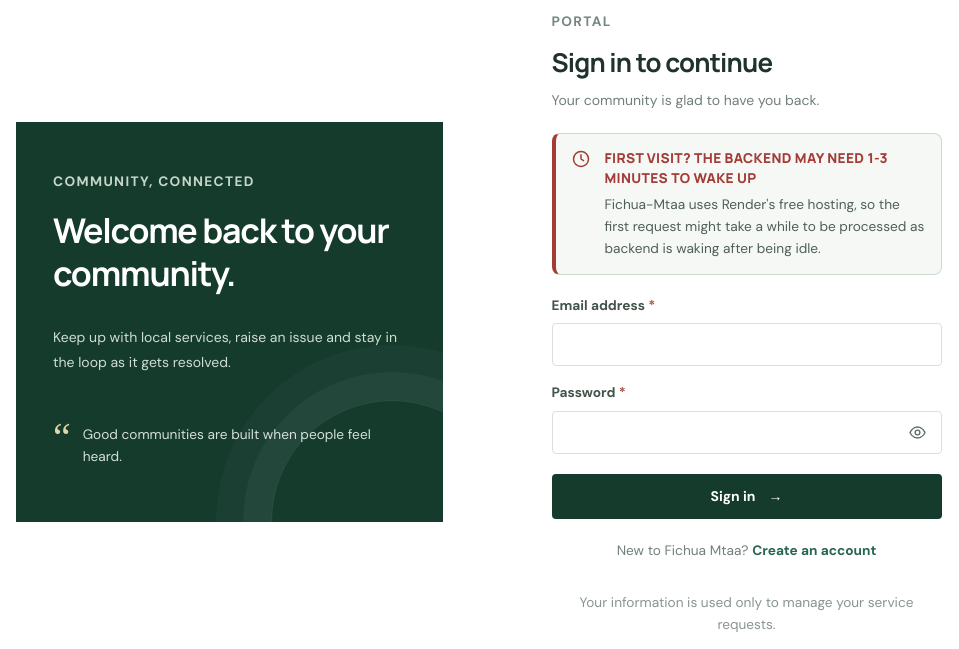
Test case: authentication forms › toggles a login password without changing its value
Type "private-value" into the password field labelled "Password *" at coordinates (746, 432), box [552,411,942,454]
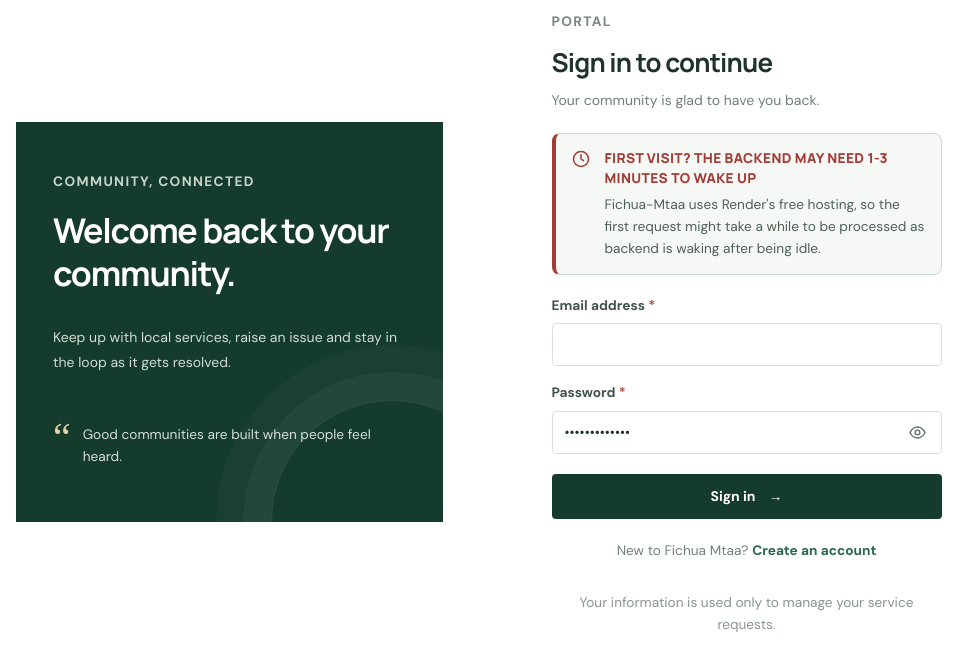
Click the button named "Show password" at coordinates (918, 432), box [900,416,934,450]
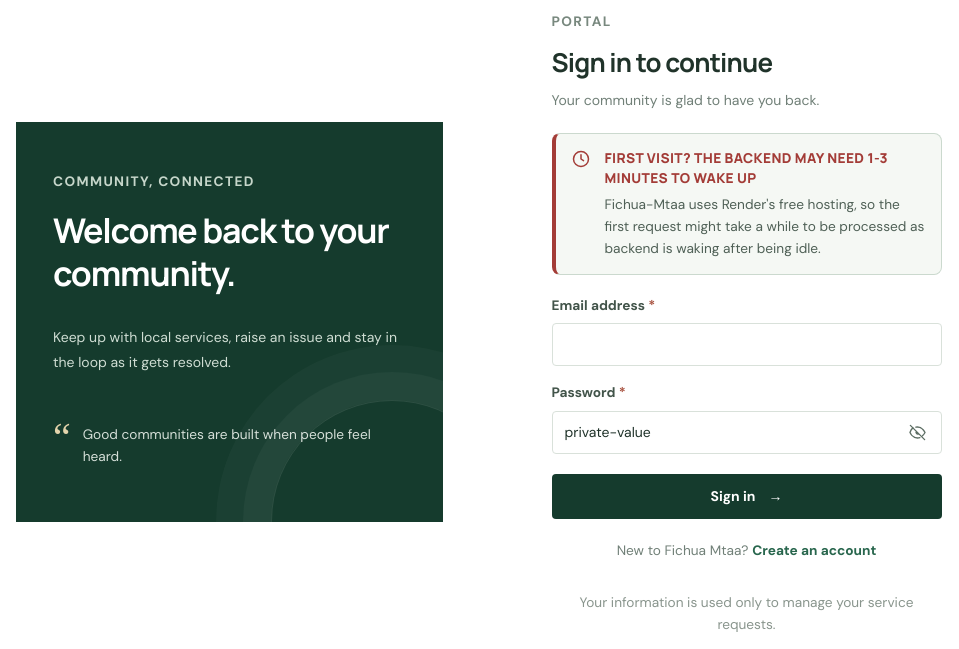
Expected: the field labelled "Password *" shows its text, [552,411,942,454]
Click the button named "Hide password" at coordinates (918, 432), box [900,416,934,450]
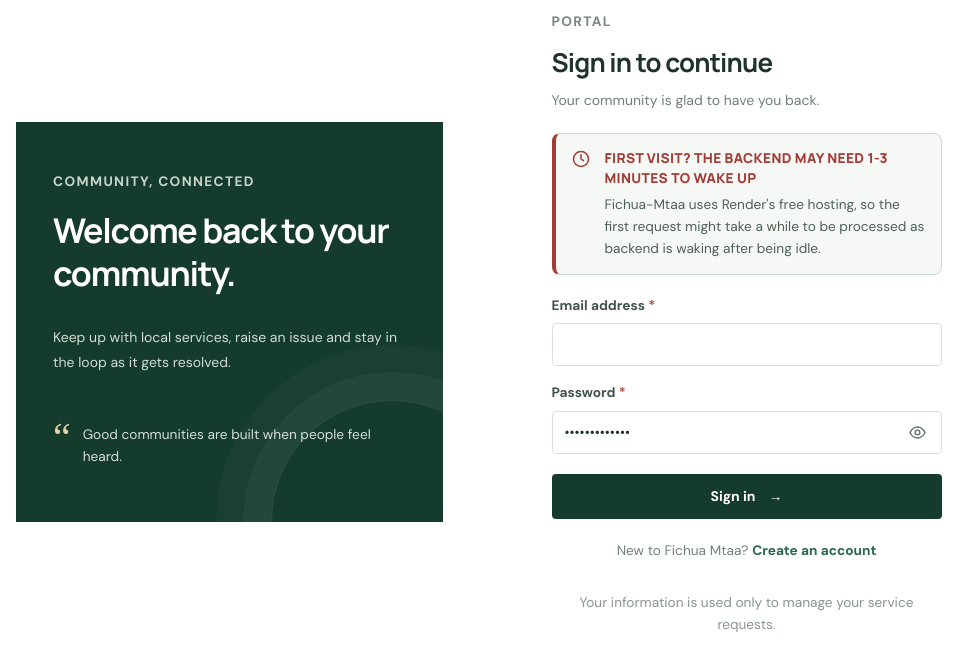
Expected: the password field labelled "Password *" hides its text, [552,411,942,454]
